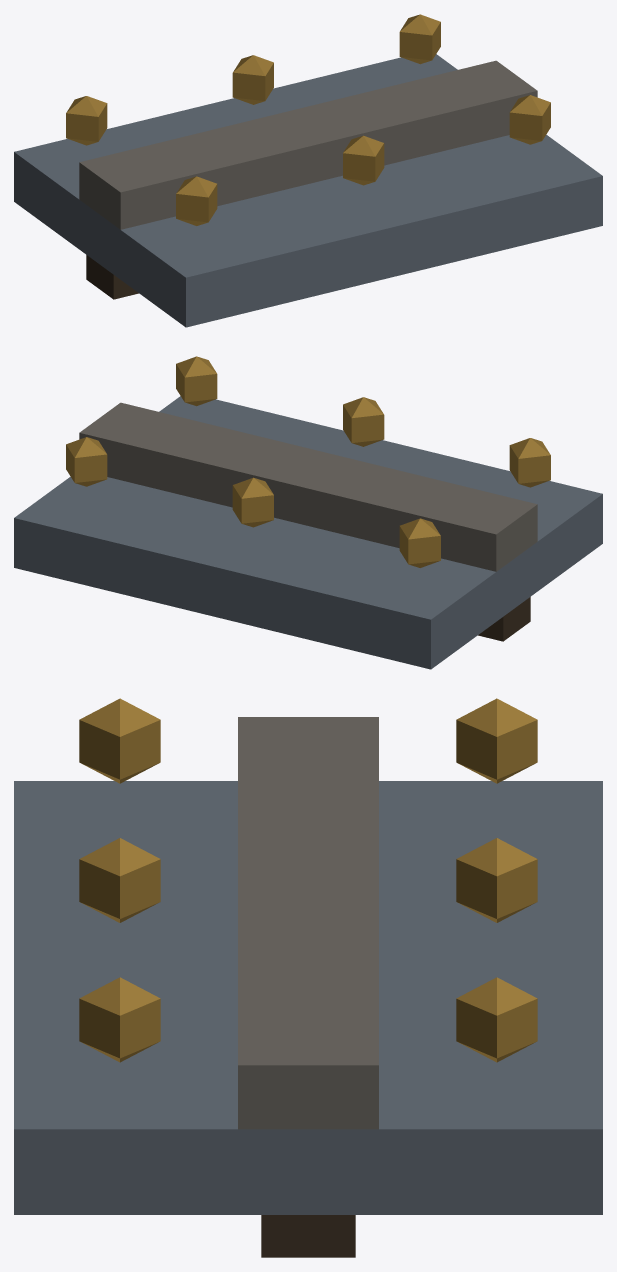
Rendered from mod-armoring.glb.
3 renders of one model, top to bottom at view 1: azimuth 30°, elevation 25°; view 2: azimuth 150°, elevation 25°; view 3: azimuth 270°, elevation 25°, orthographic. The views are drawn at different scales.
Parts seen in each view (by area): view 1: m; view 2: m; view 3: m.
Part boxes in pixels (bbox=[...]): m: bbox=[14, 14, 602, 327]; m: bbox=[14, 356, 602, 669]; m: bbox=[14, 698, 602, 1257].
Bounding box in the file's own units: 0.07 × 0.023 × 0.05.
